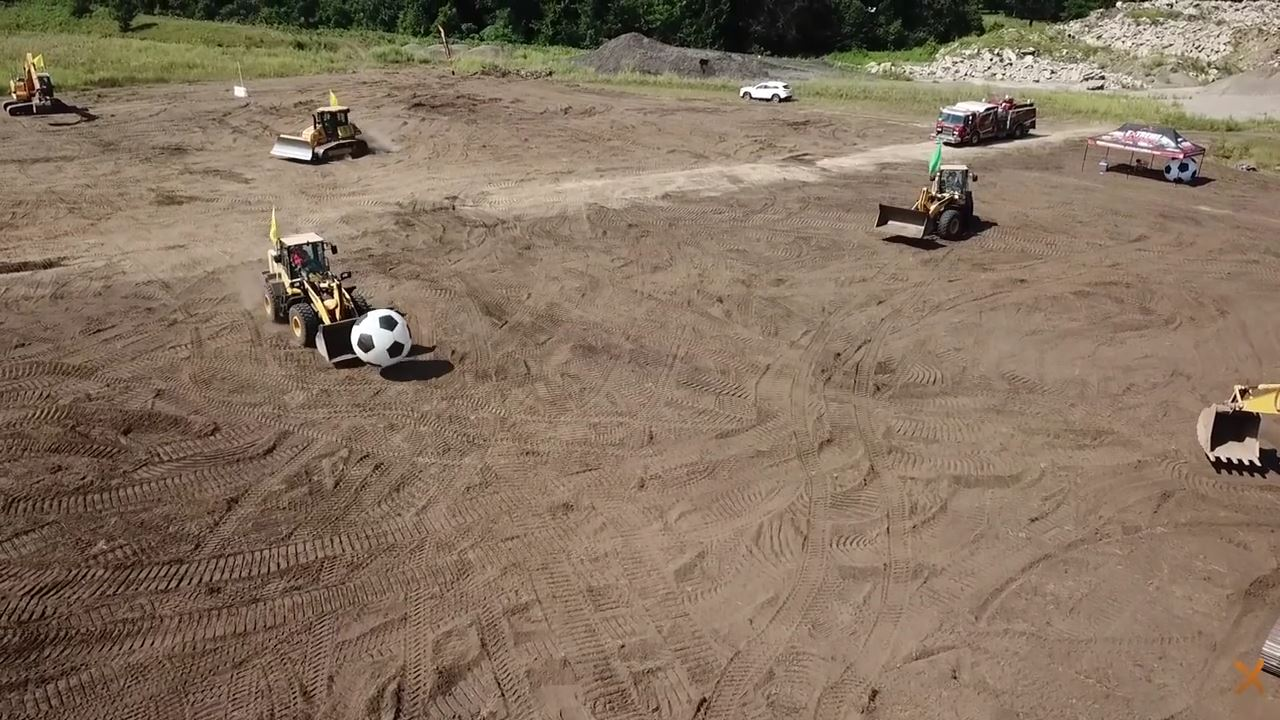con_eq: (251, 224, 371, 367), (873, 163, 977, 248), (267, 103, 379, 163), (934, 95, 1040, 147), (7, 52, 77, 115), (1197, 401, 1222, 478)
